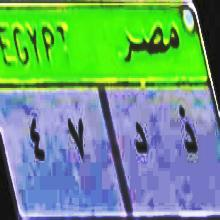4: (26, 113, 48, 180)
7: (65, 106, 90, 160)
daal: (133, 112, 149, 172)
zaal: (177, 100, 196, 166)
